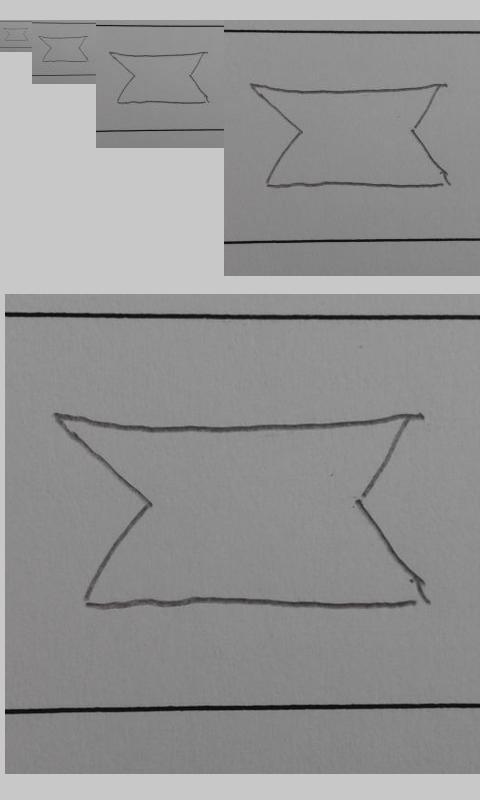edit_text: (56, 411, 428, 614), (249, 81, 449, 189), (108, 50, 210, 105), (38, 35, 89, 63), (3, 27, 29, 42)
